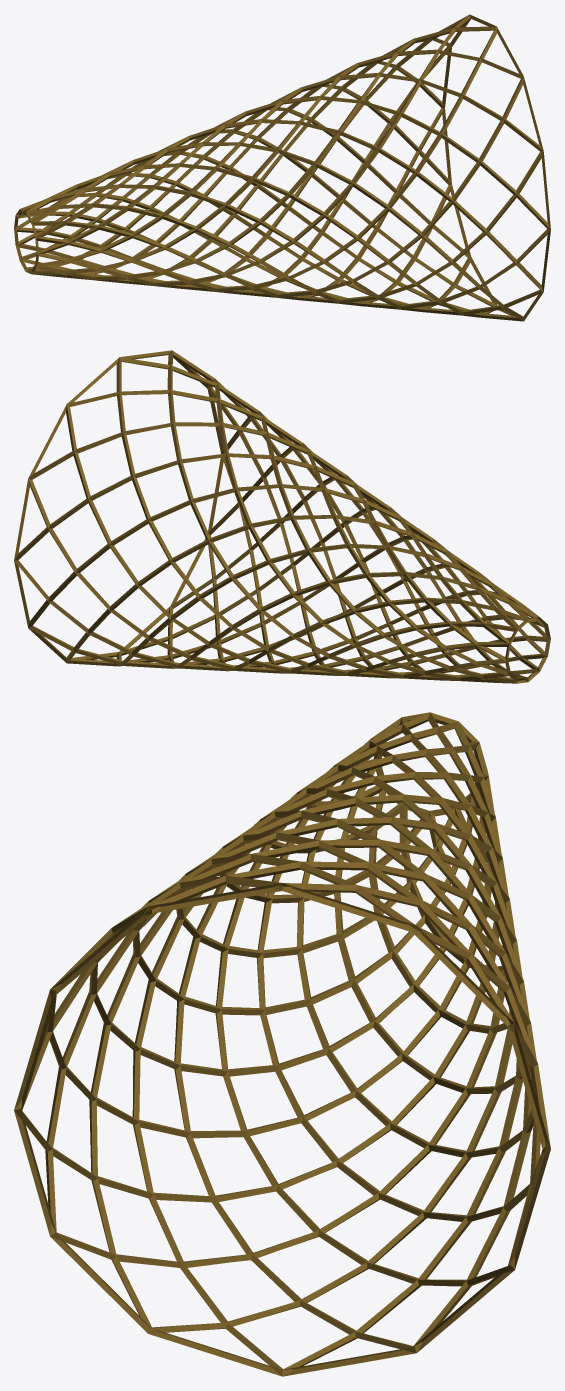
The picture shows the model from 3 angles, top to bottom: view 1: azimuth 30°, elevation 25°; view 2: azimuth 150°, elevation 25°; view 3: azimuth 270°, elevation 25°; orthographic projection. The views are drawn at different scales.
Parts seen in each view (by area): view 1: Cylinder.405; view 2: Cylinder.405; view 3: Cylinder.405.
Part boxes in pixels (left/top/right/bottom): Cylinder.405: left=14, top=14, right=550, bottom=321; Cylinder.405: left=14, top=350, right=550, bottom=683; Cylinder.405: left=14, top=712, right=550, bottom=1376.
Size of the model in its own units: 4.55 by 2.7 by 2.66.
